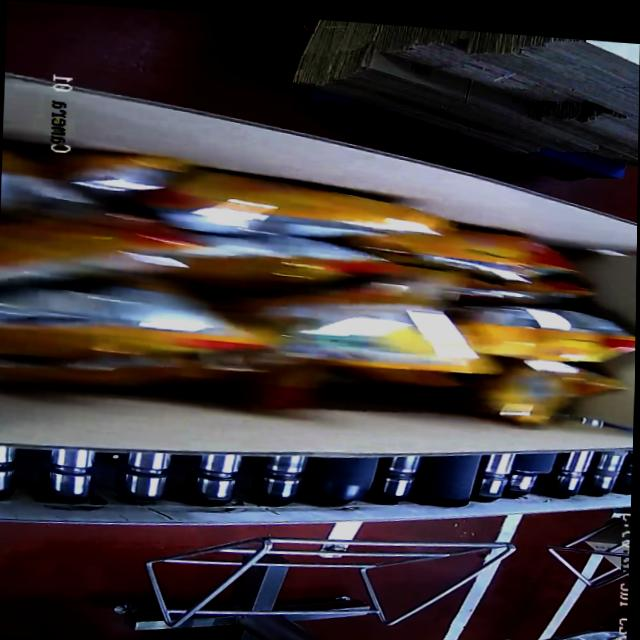FRENCH_CHEESE: (0, 150, 637, 426)
